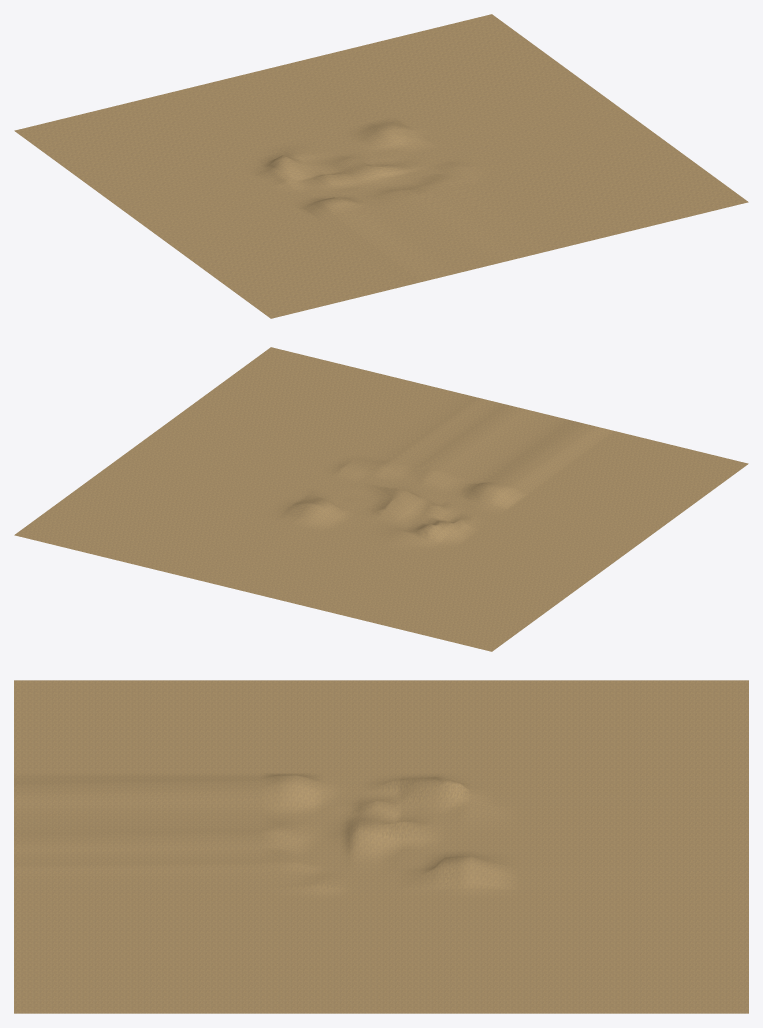
Rendered from chao.fbx.
3 views of the same model, one above another, from view 1: azimuth 30°, elevation 25°; view 2: azimuth 150°, elevation 25°; view 3: azimuth 270°, elevation 25° (orthographic). The views are drawn at different scales.
Parts seen in each view (by area): view 1: pPlane5; view 2: pPlane5; view 3: pPlane5.
Boxes of the visible parts, x1,y1,x2,y2 form: pPlane5: (14, 14, 748, 318); pPlane5: (14, 347, 748, 651); pPlane5: (14, 680, 748, 1013).
Bounding box in the file's own units: 866 × 18.86 × 807.
